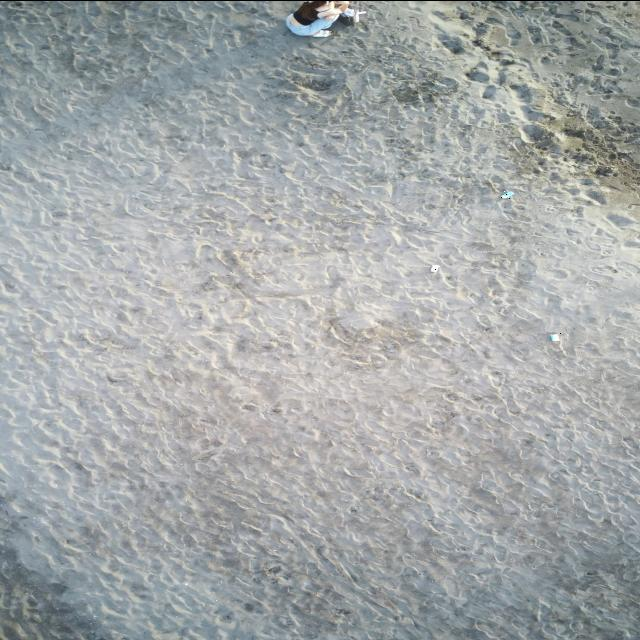Garbage: (342, 3, 366, 22), (352, 9, 366, 22), (500, 191, 512, 198), (548, 333, 560, 340), (431, 264, 439, 272)
